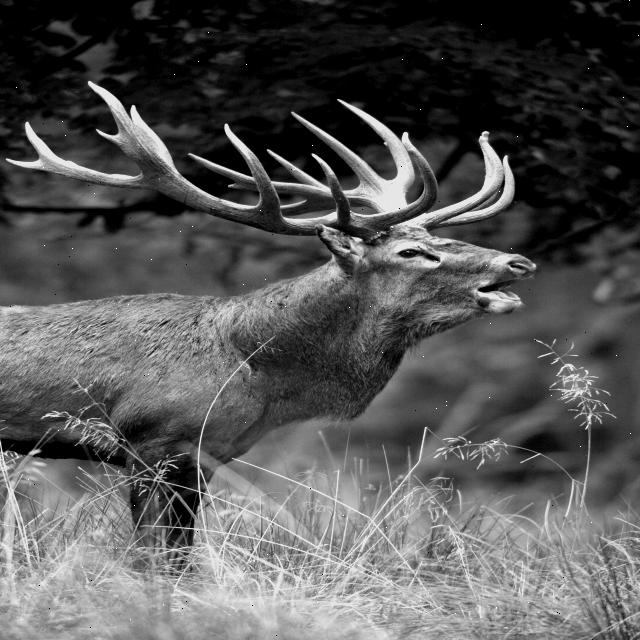deer: (0, 80, 548, 552)
